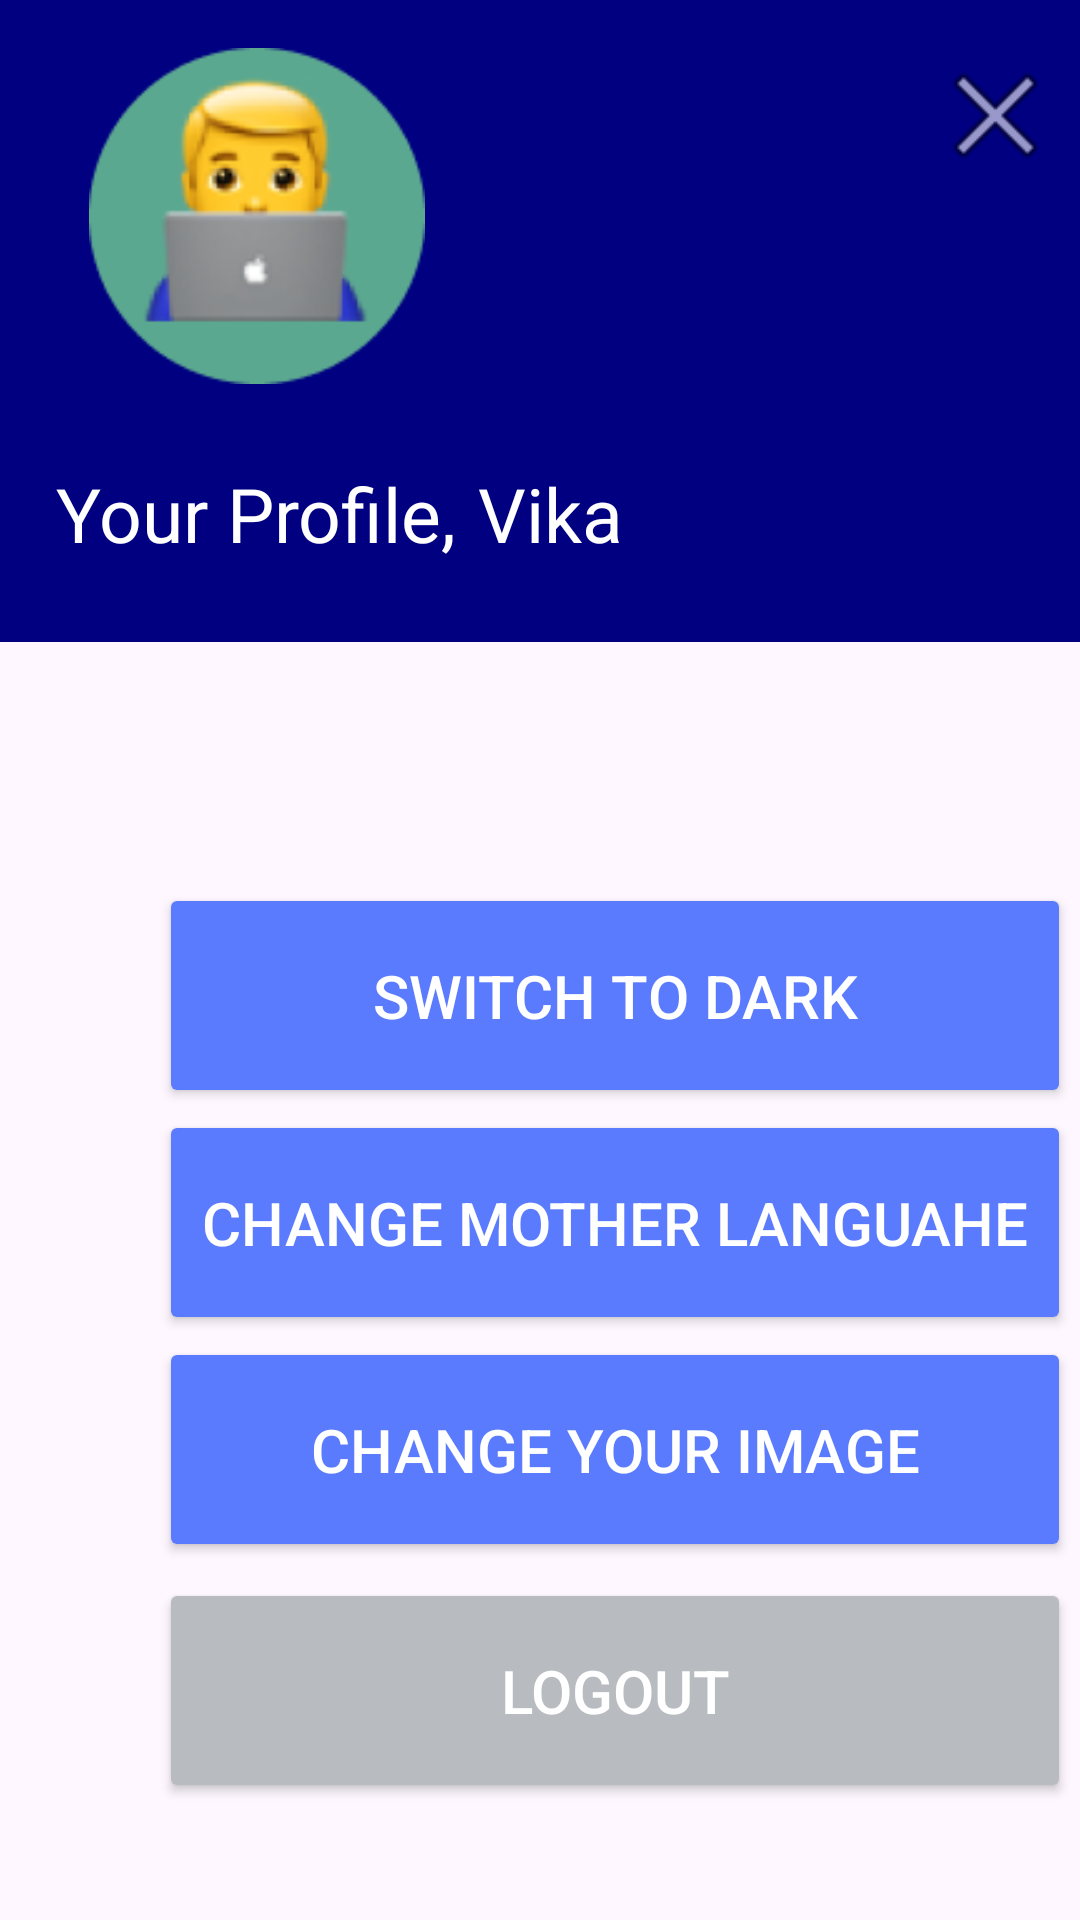

Icon bounding boxes for this 1080w x 1920h phone screenshot, format detection(x1, y1, x2, y2):
close clear cancel: detection(954, 74, 1037, 157)
